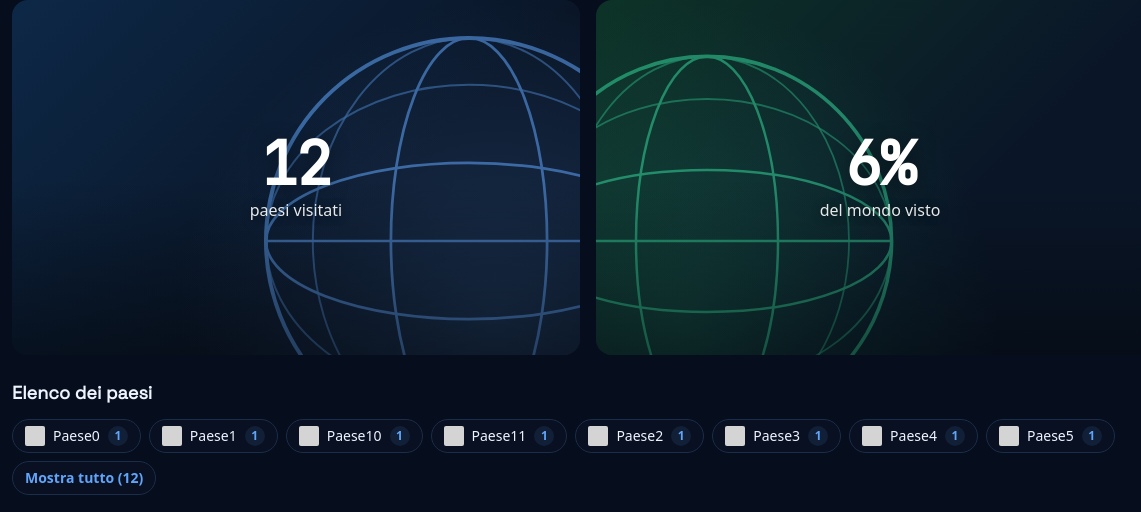
Test: StatsSection — paginazione showAll › click su 'Mostra tutto' mostra tutti i paesi
This screenshot has width=1141, height=512.
Click the button "Mostra tutto (12)": (84, 478) top-left (12, 461), bottom-right (156, 495)
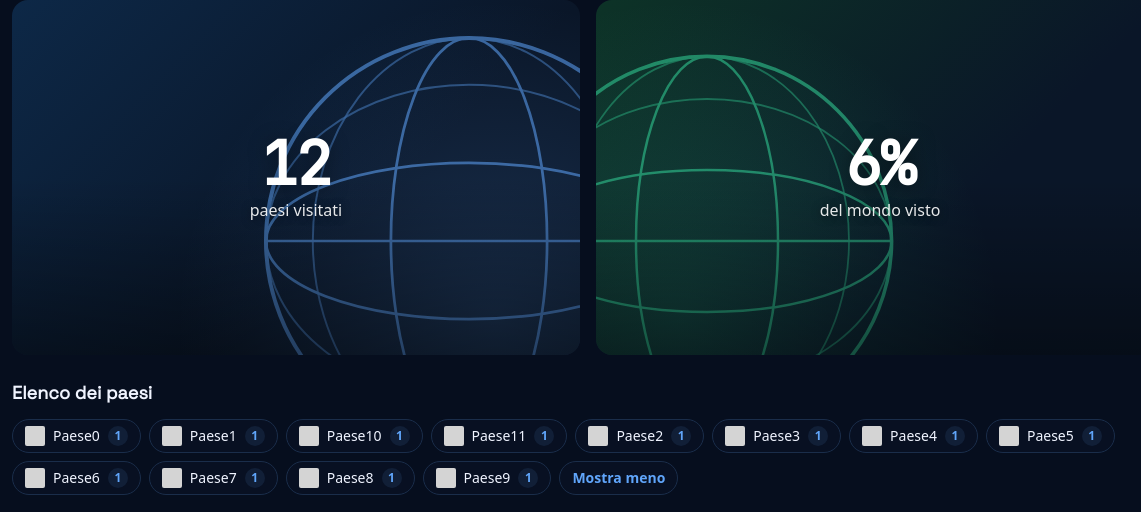
Expected: the button "Mostra meno" is shown, top-left (559, 461), bottom-right (678, 495)
